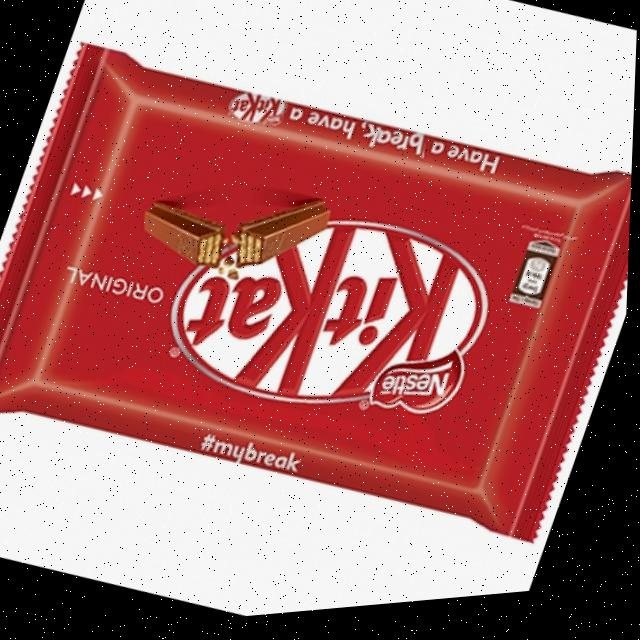kitkat: (0, 6, 639, 597)
